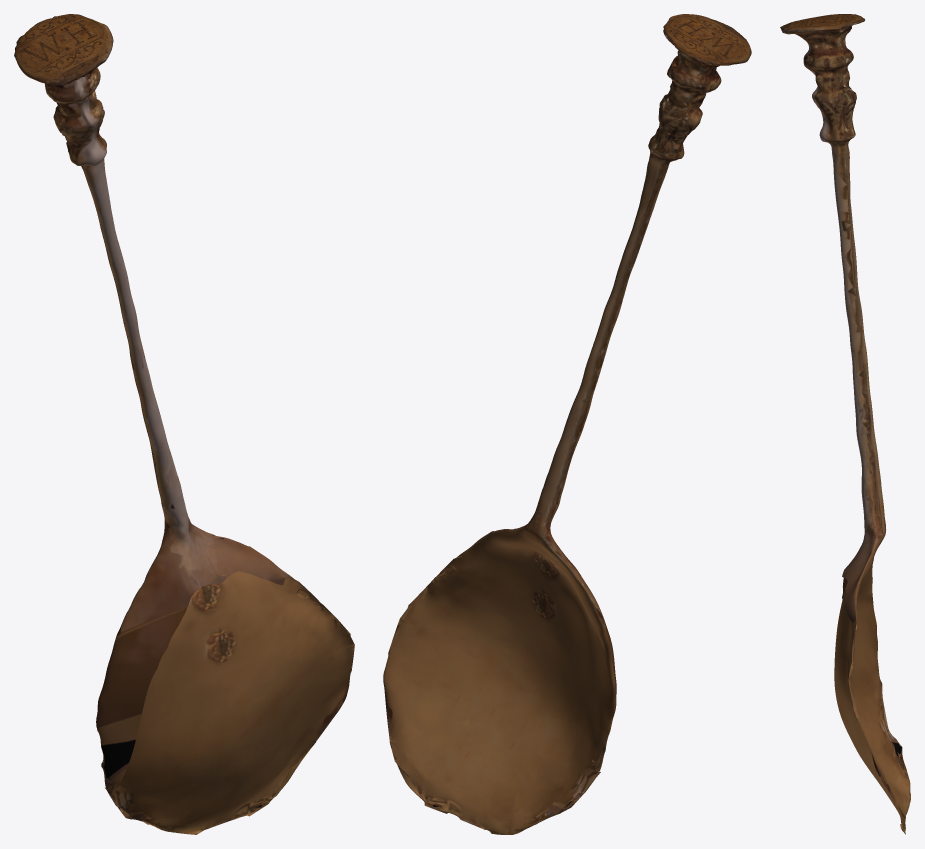
Rendered from spoon.gltf.
The picture shows the model from 3 angles, left to right: view 1: azimuth 30°, elevation 25°; view 2: azimuth 150°, elevation 25°; view 3: azimuth 270°, elevation 25°; orthographic projection. The views are drawn at different scales.
Visible parts, largest first — view 1: Seal Spoon Final_LOW RES; view 2: Seal Spoon Final_LOW RES; view 3: Seal Spoon Final_LOW RES.
Part boxes in pixels (bbox=[...]): Seal Spoon Final_LOW RES: bbox=[14, 14, 354, 834]; Seal Spoon Final_LOW RES: bbox=[383, 14, 751, 834]; Seal Spoon Final_LOW RES: bbox=[780, 14, 910, 834].
Size of the model in its own units: 0.4089 by 0.9608 by 0.1561.
Materials: 1 (1 with a texture image).
